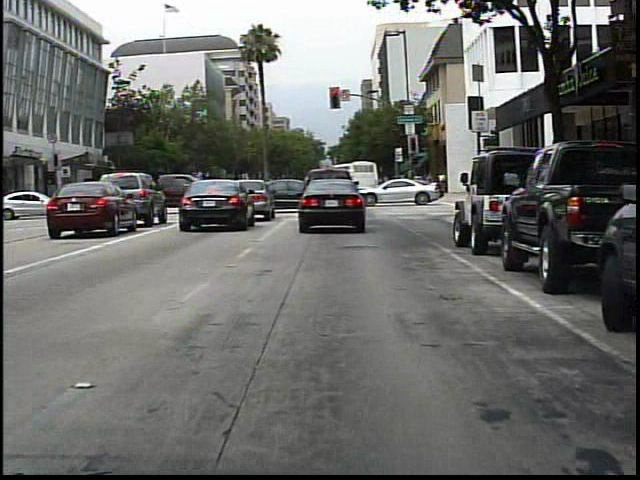person: (436, 169, 452, 200)
